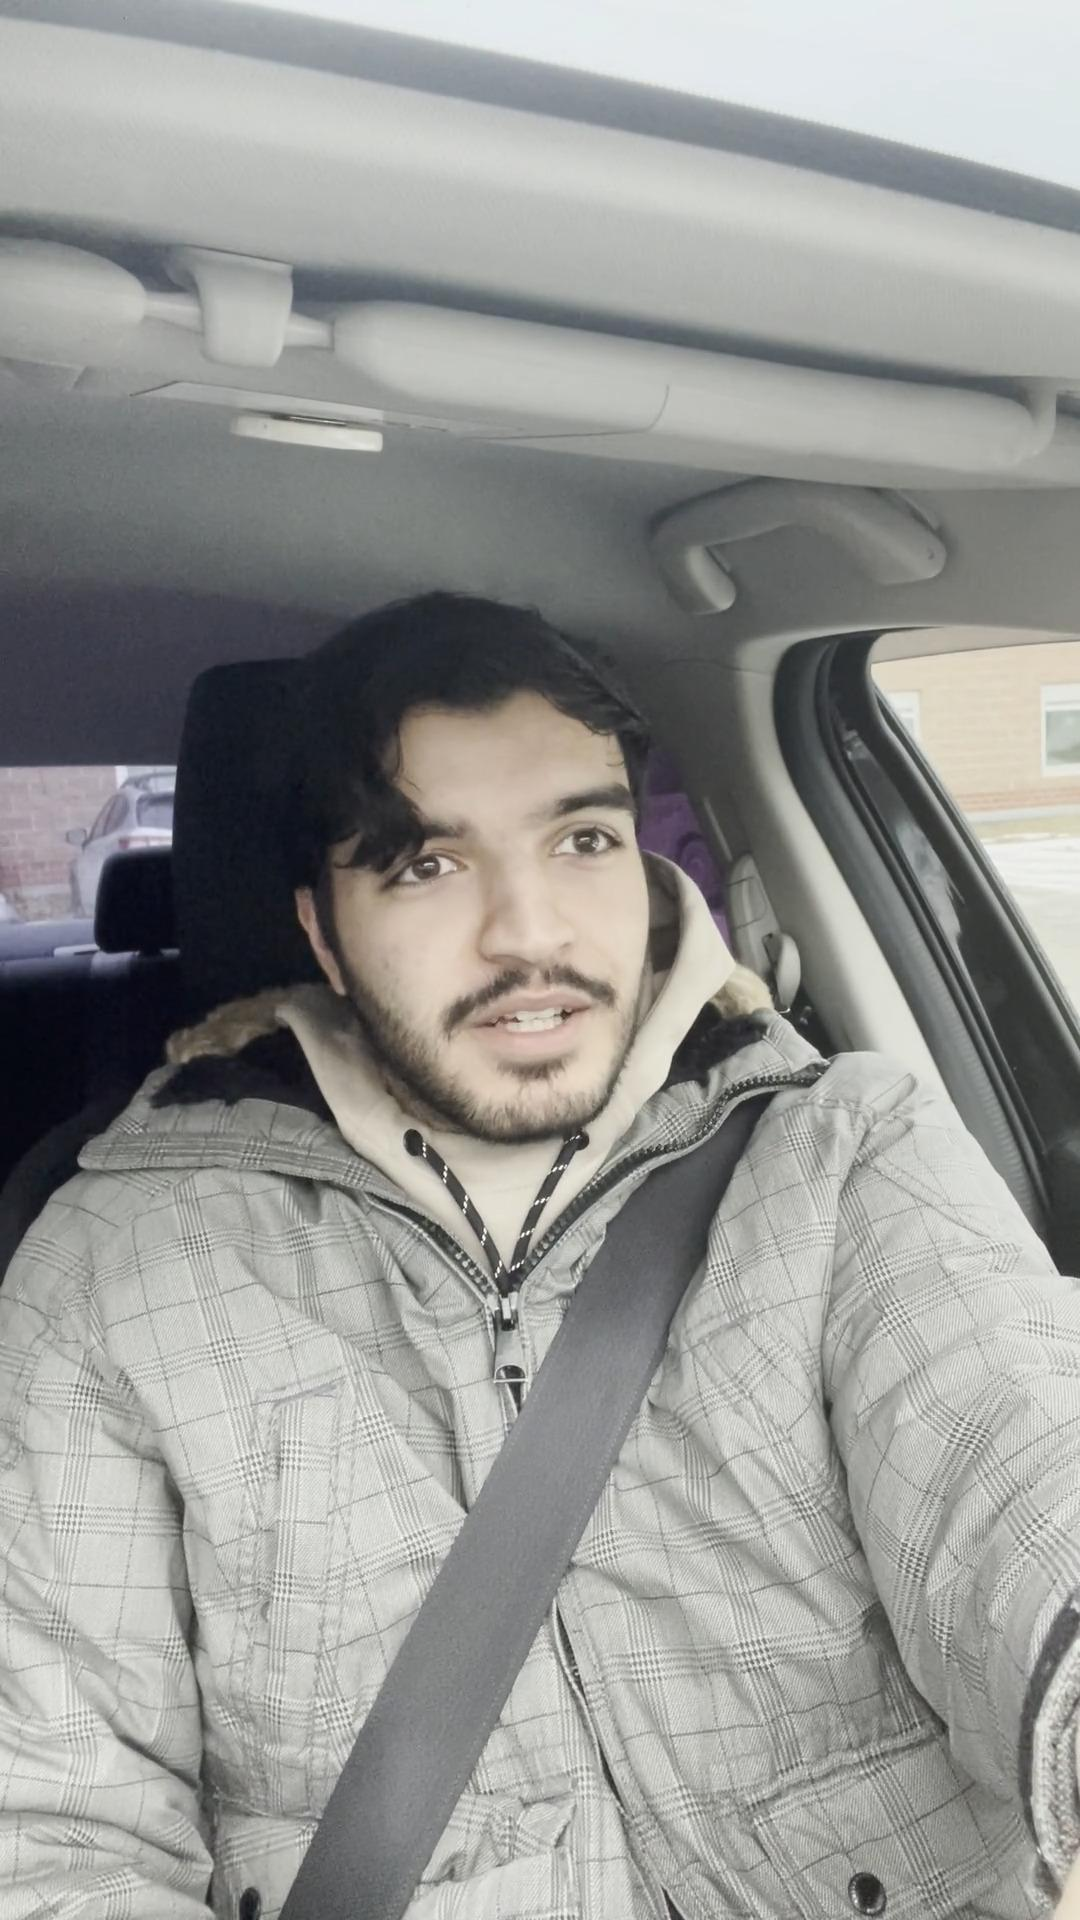seatbelt: (216, 1067, 903, 1920)
